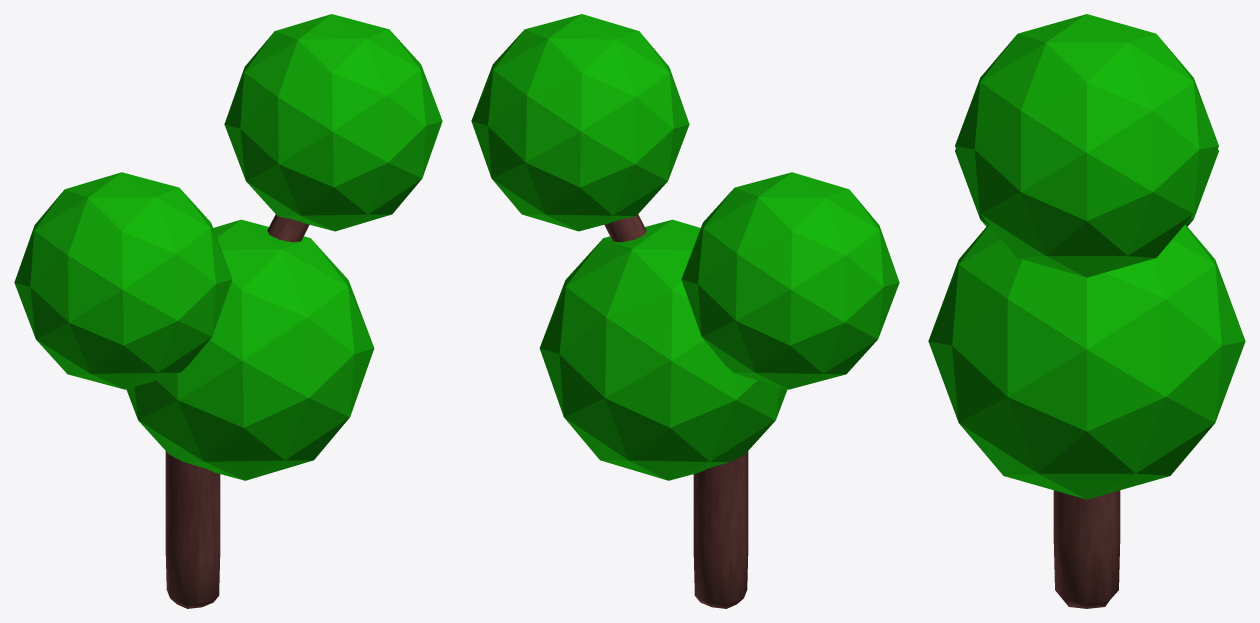
File: TreeB.fbx
3 views of the same model, side by side, from view 1: azimuth 30°, elevation 25°; view 2: azimuth 150°, elevation 25°; view 3: azimuth 270°, elevation 25° (orthographic). The views are drawn at different scales.
Visible parts, largest first — view 1: TreeB; view 2: TreeB; view 3: TreeB.
Part boxes in pixels (x1,y1,x2,y2): TreeB: [14, 14, 442, 608]; TreeB: [471, 14, 899, 608]; TreeB: [928, 14, 1245, 608].
Size of the model in its own units: 2.79 by 1.6 by 3.62.
Materials: 2 (1 with a texture image).
